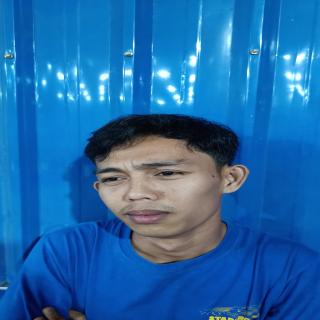Sedih: (85, 136, 226, 244)
